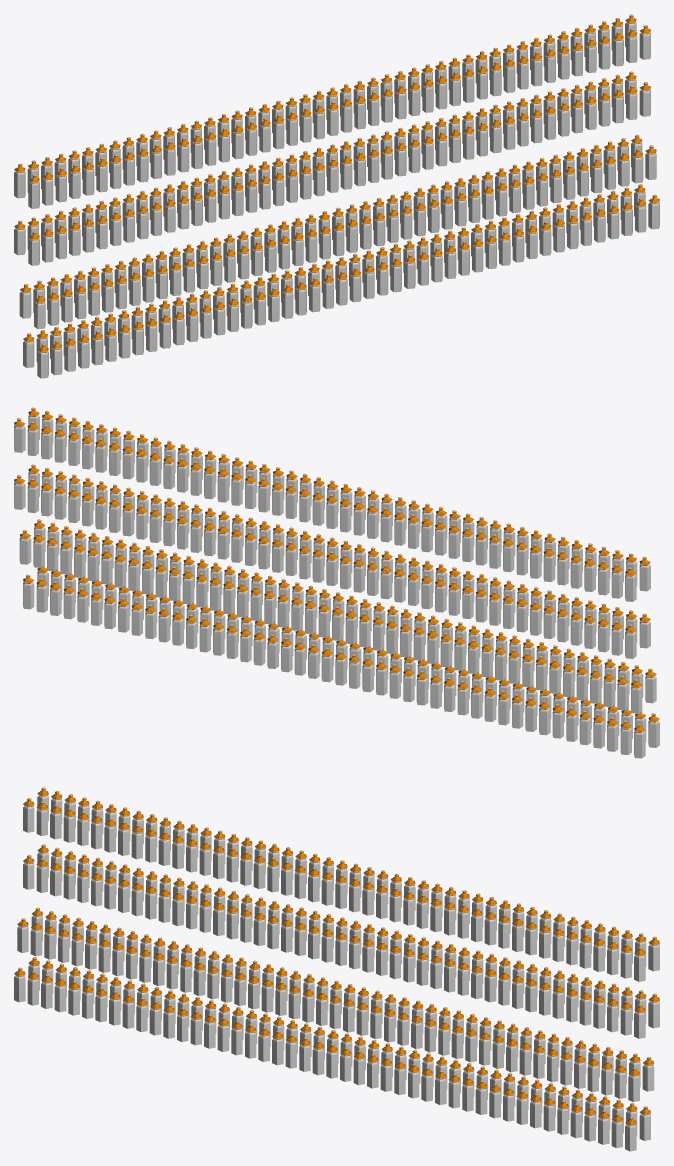
The model's file is Baby_Bottles.fbx.
3 views of the same model, one above another, from view 1: azimuth 30°, elevation 25°; view 2: azimuth 150°, elevation 25°; view 3: azimuth 330°, elevation 25° (orthographic).
Visible parts, largest first — view 1: Baby_Bottles; view 2: Baby_Bottles; view 3: Baby_Bottles.
Part boxes in pixels (x1,y1,x2,y2): Baby_Bottles: [14, 14, 659, 378]; Baby_Bottles: [14, 407, 659, 758]; Baby_Bottles: [14, 787, 659, 1151].
Bounding box in the file's own units: 4.57 × 1.38 × 0.3726.
